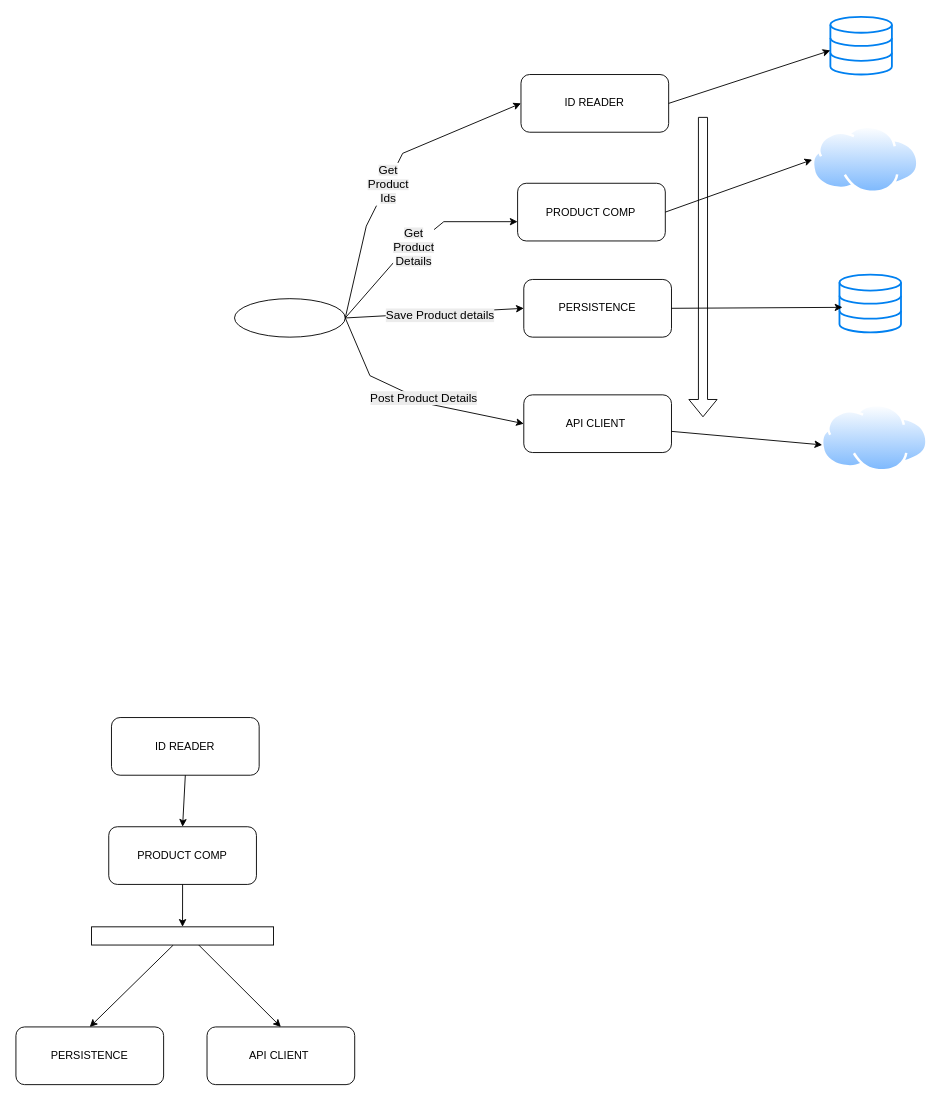
This 944x1100 diagram has some shape labels left out. Each missing label, with the box of its shape:
MAIN: (234, 298, 345, 337)
Other Api: (821, 404, 928, 471)
Other DB: (838, 273, 901, 333)
Product API: (812, 126, 919, 193)
